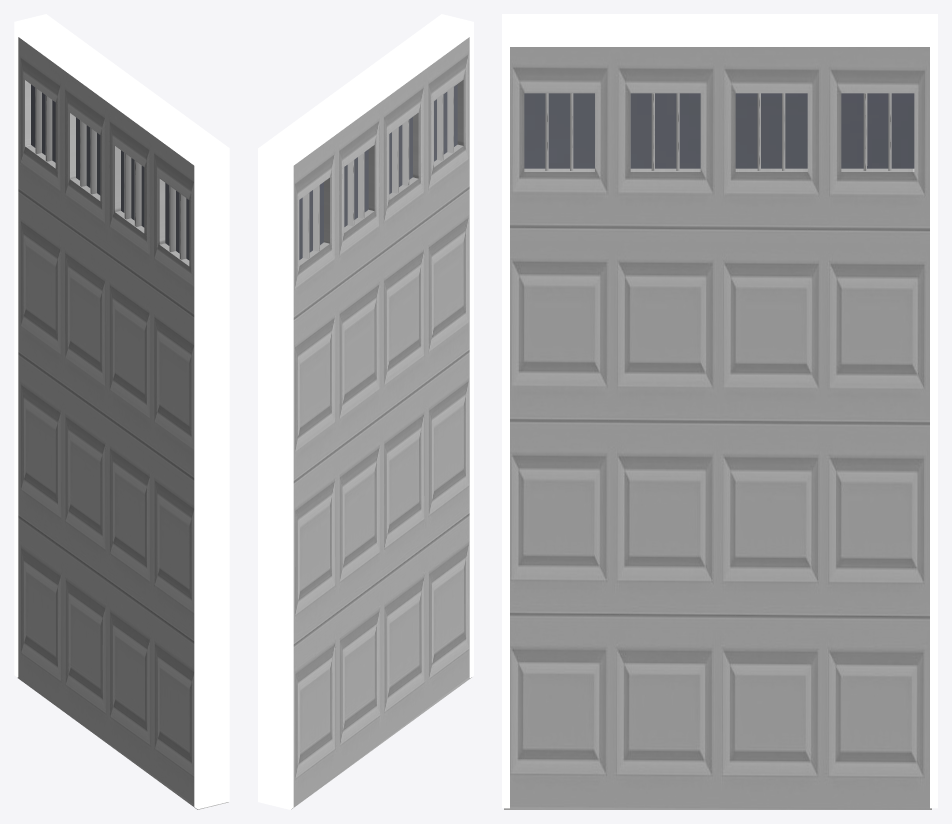
The model's file is overhead_door_door_stockbridge.7cf5516c.gltf.
3 views of the same model, side by side, from view 1: azimuth 30°, elevation 25°; view 2: azimuth 150°, elevation 25°; view 3: azimuth 270°, elevation 25° (orthographic). The views are drawn at different scales.
Parts seen in each view (by area): view 1: door, trim, Glass; view 2: door, trim, Glass; view 3: door, trim, Glass.
Boxes of the visible parts, <box> form: door: <box>17,37,228,809</box>; trim: <box>14,14,229,809</box>; Glass: <box>31,84,189,260</box>; door: <box>291,37,471,809</box>; trim: <box>258,14,473,809</box>; Glass: <box>299,84,457,259</box>; door: <box>504,47,931,809</box>; trim: <box>502,14,937,808</box>; Glass: <box>524,93,914,168</box>.
Bounding box in the file's own units: 0.3092 × 6.01 × 3.05.
3 materials, 2 textured.
